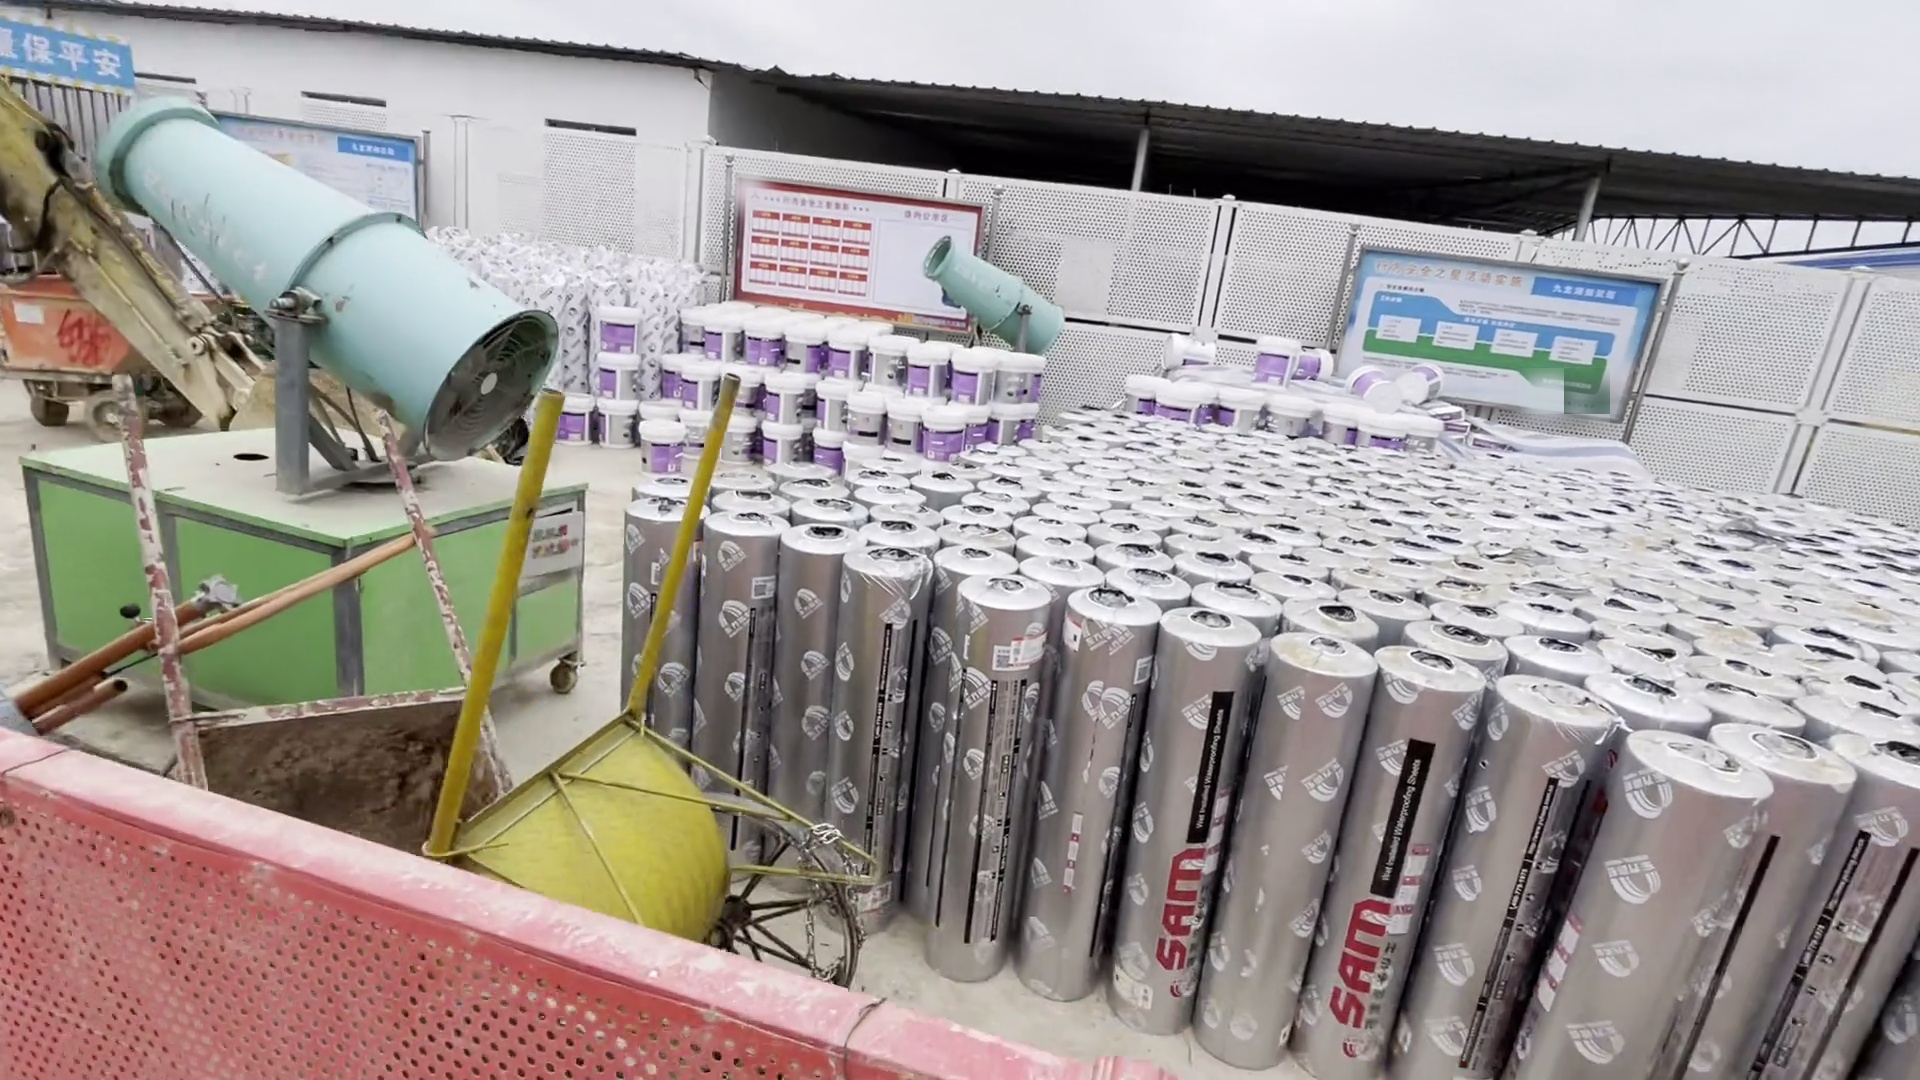handcart: (102, 351, 823, 996)
